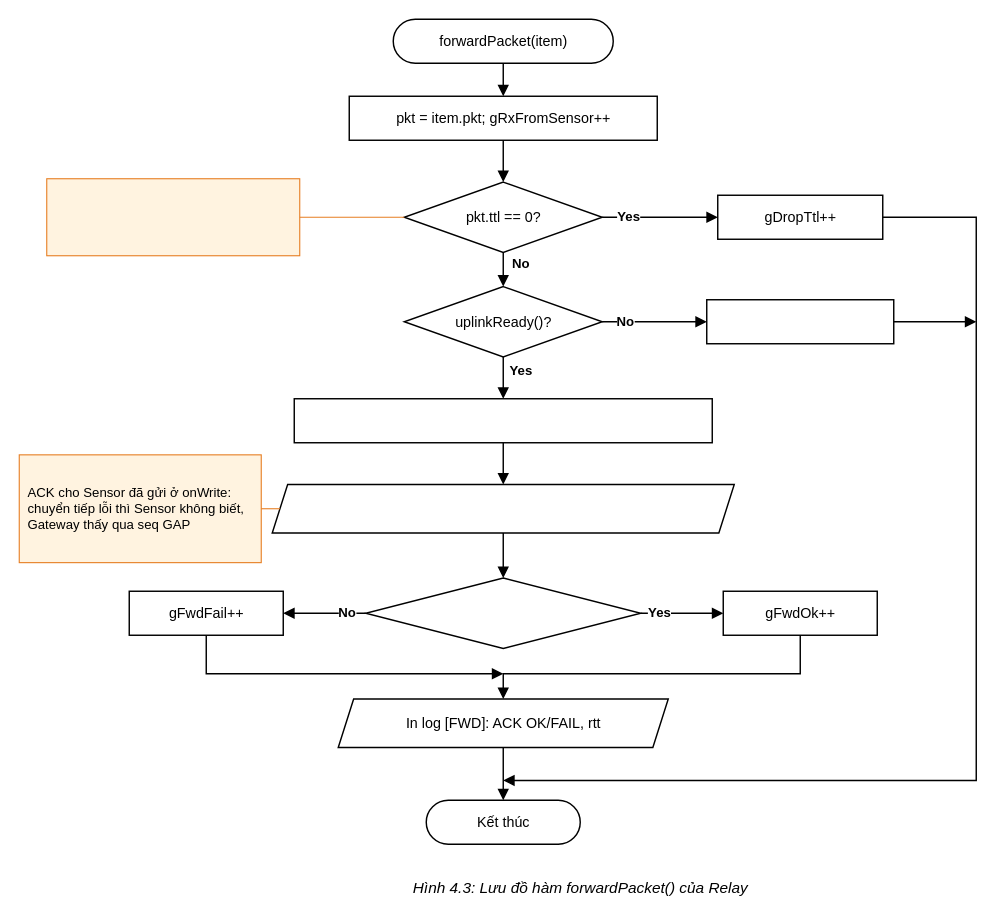
Image size: 1007x924. Some labels were removed from this diagram. The centre of each missing label's shape, as x and y in pixels:
Gateway trả ACK (ok)?: pixel 503 613
gDropNoUplink++: pixel 800 321
pkt.ttl--; pkt.relayFlag = RELAY_FLAG_RELAYED: pixel 502 420
TTL = 0 → bỏ gói, chống vòng lặp (TTL mặc định 2 → qua Relay còn 1): pixel 173 217
writeValue(pkt, 10 byte, true) → RxData của Gateway: pixel 502 508
